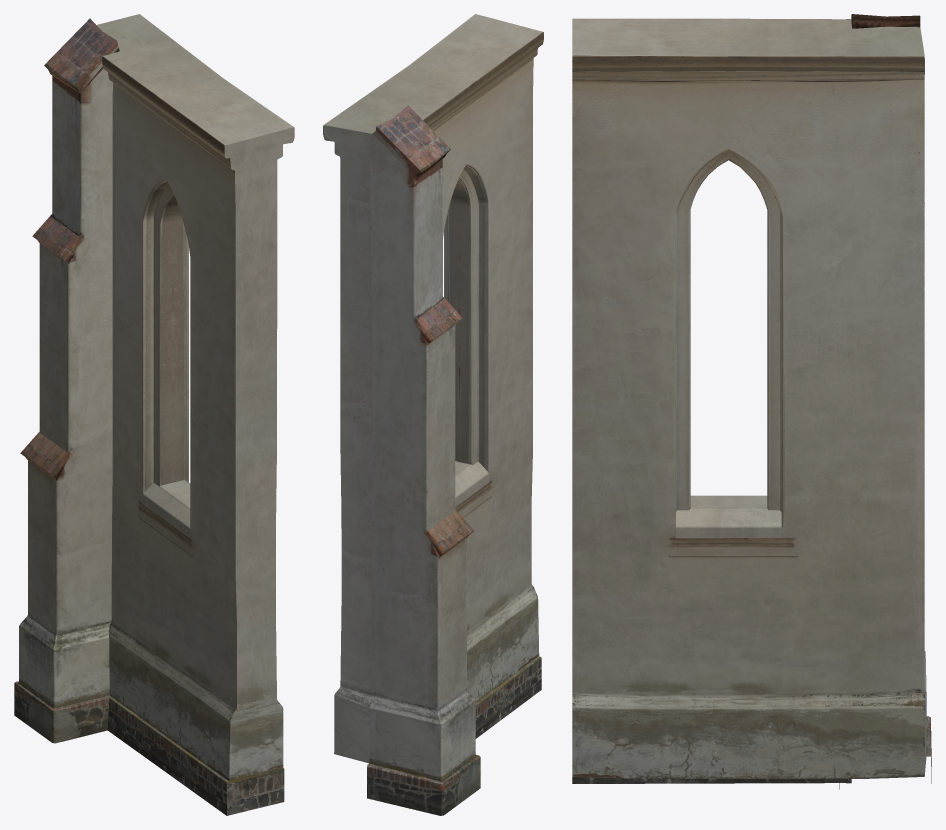
The model's file is sm_Church_01_22.fbx.
3 views of the same model, side by side, from view 1: azimuth 30°, elevation 25°; view 2: azimuth 150°, elevation 25°; view 3: azimuth 270°, elevation 25° (orthographic). The views are drawn at different scales.
Visible parts, largest first — view 1: sm_Church_01_22_LOD0; view 2: sm_Church_01_22_LOD0; view 3: sm_Church_01_22_LOD0.
Part boxes in pixels (box(x1,y1,x2,y2)): sm_Church_01_22_LOD0: box(14, 14, 294, 815); sm_Church_01_22_LOD0: box(323, 14, 543, 815); sm_Church_01_22_LOD0: box(572, 14, 931, 789).
Size of the model in its own units: 153 by 337 by 804.
